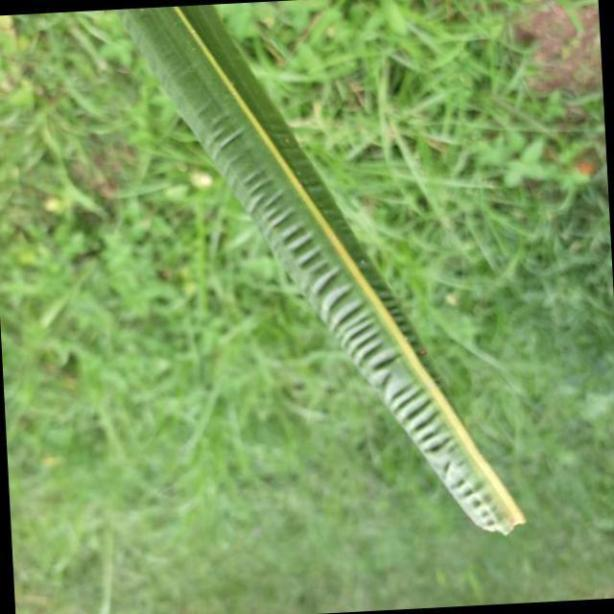Boron: (123, 0, 532, 540)
